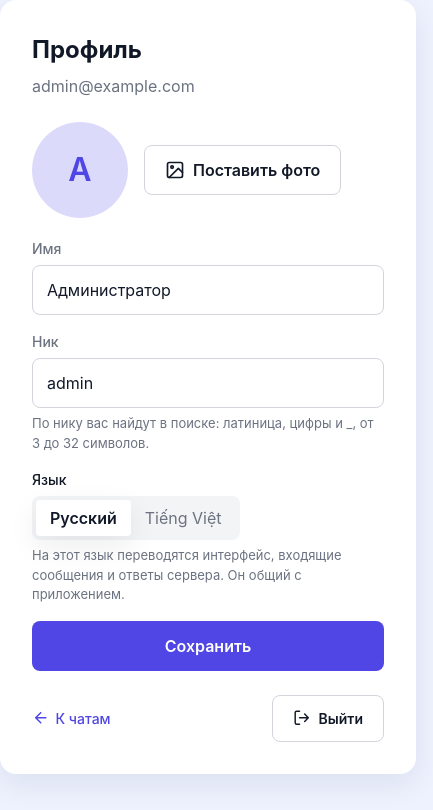
Test: ProfileView: язык › при ошибке остаётся на прежнем языке и показывает её
The width and height of the screenshot is (433, 810).
Click the radio button labelled "Tiếng Việt" at (183, 518), box [131, 500, 236, 536]
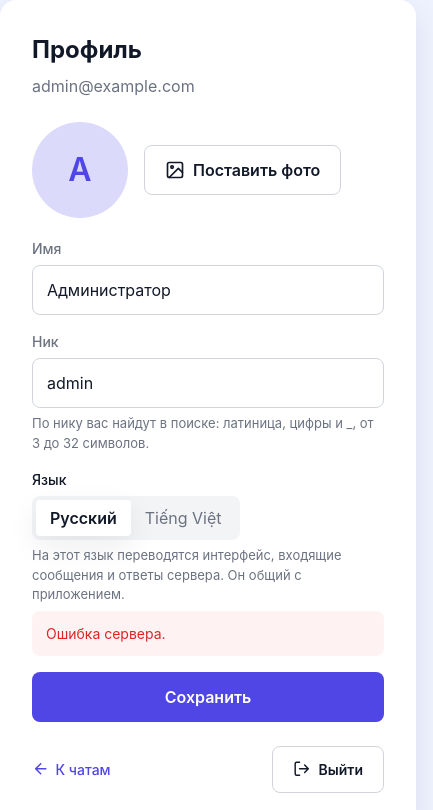
Expected: the message "Ошибка сервера." is shown, [32, 610, 384, 656]
